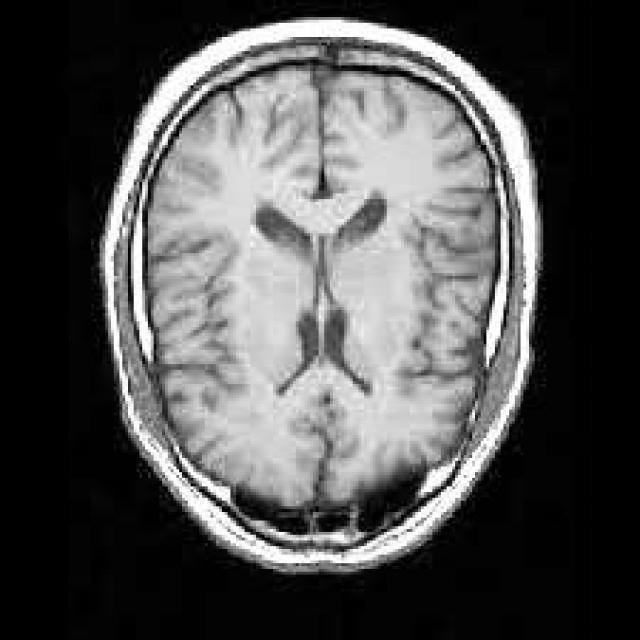notumor: (100, 20, 540, 580)
